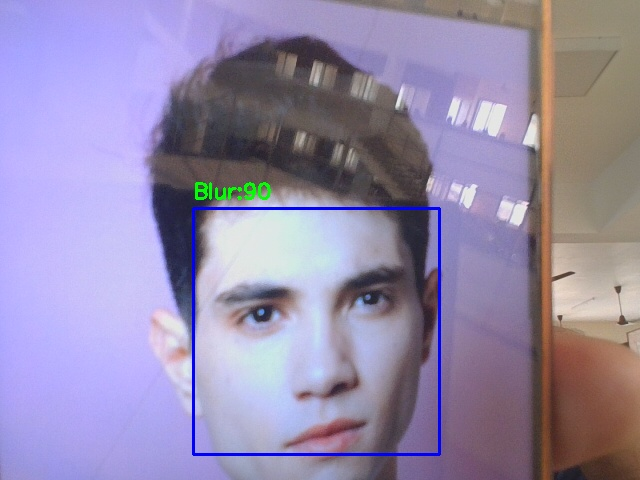fake: (193, 208, 439, 454)
